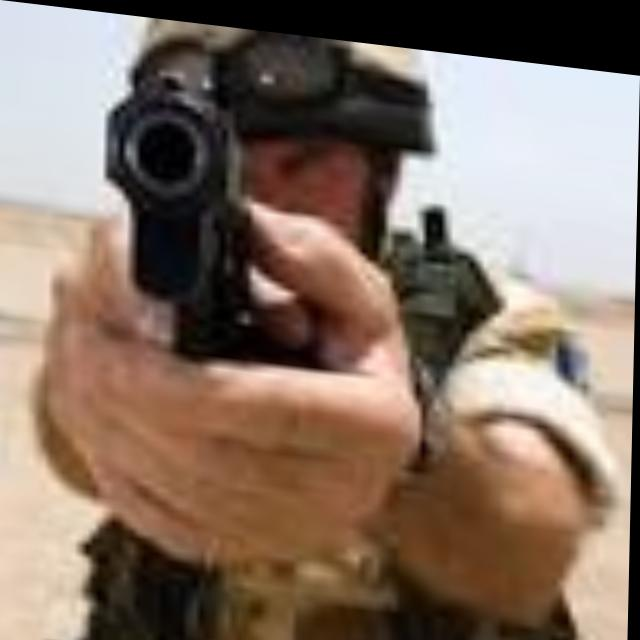other: (70, 8, 542, 640)
